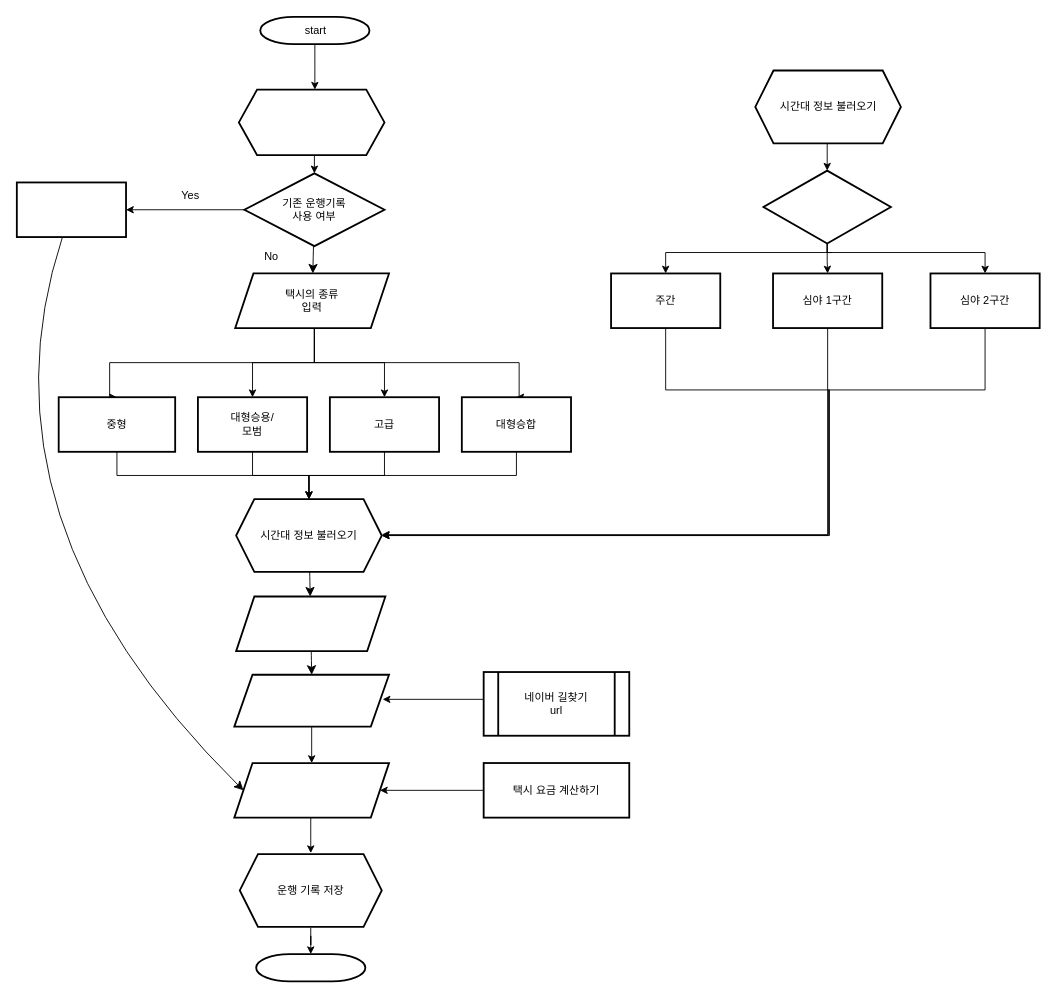
Image size: 1056x997. Some labels were removed from this diagram. The shapes that lost their labels are listed below. From the top down, each one's centre as x and y in pixels, then its label:
(311,122): 기존 운행 기록 불러오기
(70,209): 기존 운행 기록 사용
(826,206): 시간대 구분
(310,623): 출발지 및 도착지 정보 입력
(311,700): 거리 확인 및 입력
(311,790): 택시 요금 출력
(310,967): end
